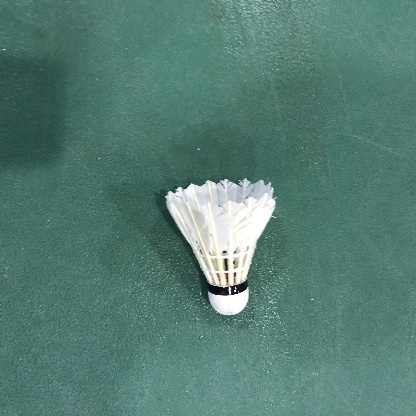ball_single: (166, 178, 276, 315)
